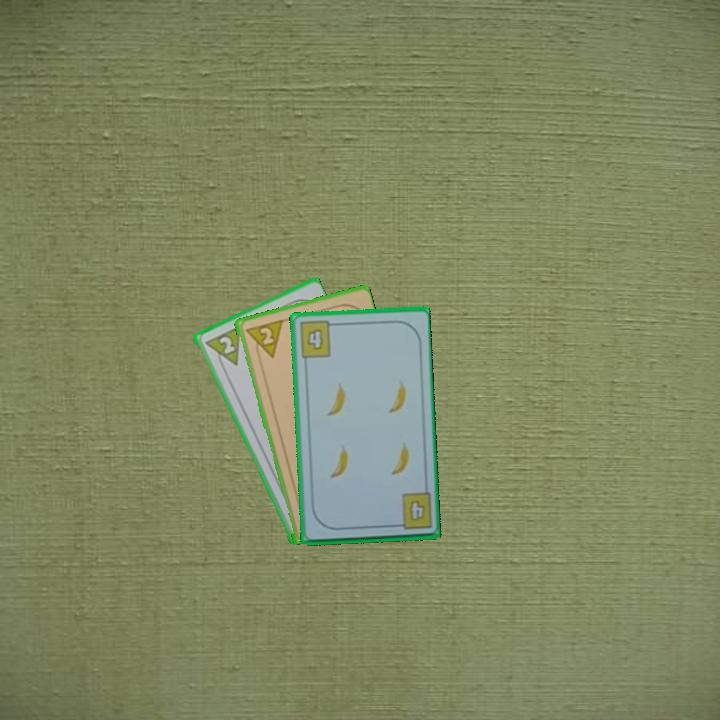2p: (200, 323, 243, 374), (242, 316, 285, 363)
4b: (390, 490, 434, 533), (296, 318, 339, 361)
